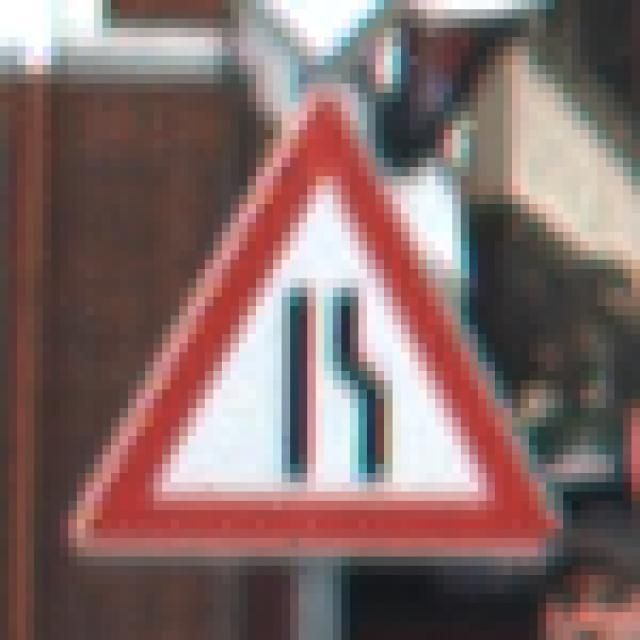narrow road ahead: (58, 89, 560, 561)
